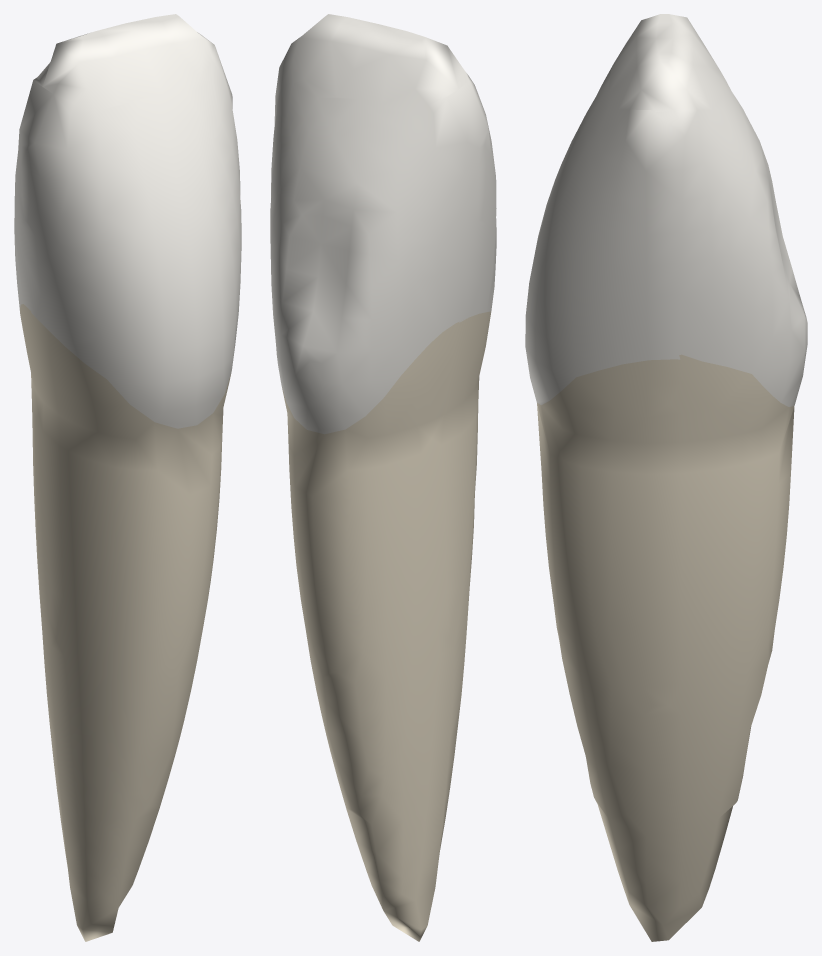
The picture shows the model from 3 angles, left to right: view 1: azimuth 30°, elevation 25°; view 2: azimuth 150°, elevation 25°; view 3: azimuth 270°, elevation 25°; orthographic projection. The views are drawn at different scales.
Visible parts, largest first — view 1: root, V, D, I, M; view 2: root, L, D, I, M; view 3: root, M, L, V, I.
Part boxes in pixels (x1,y1,x2,y2): root: (20,304,231,941); V: (95,93,240,428); D: (14,80,106,378); I: (33,14,214,112); M: (186,45,241,273); root: (282,311,491,941); L: (271,97,409,434); D: (397,76,496,374); I: (291,14,469,112); M: (270,43,317,274); root: (537,354,794,941); M: (572,108,753,376); L: (720,71,807,406); V: (525,65,612,405); I: (609,14,724,112).
Size of the model in its own units: 5.45 by 23.42 by 6.49.
